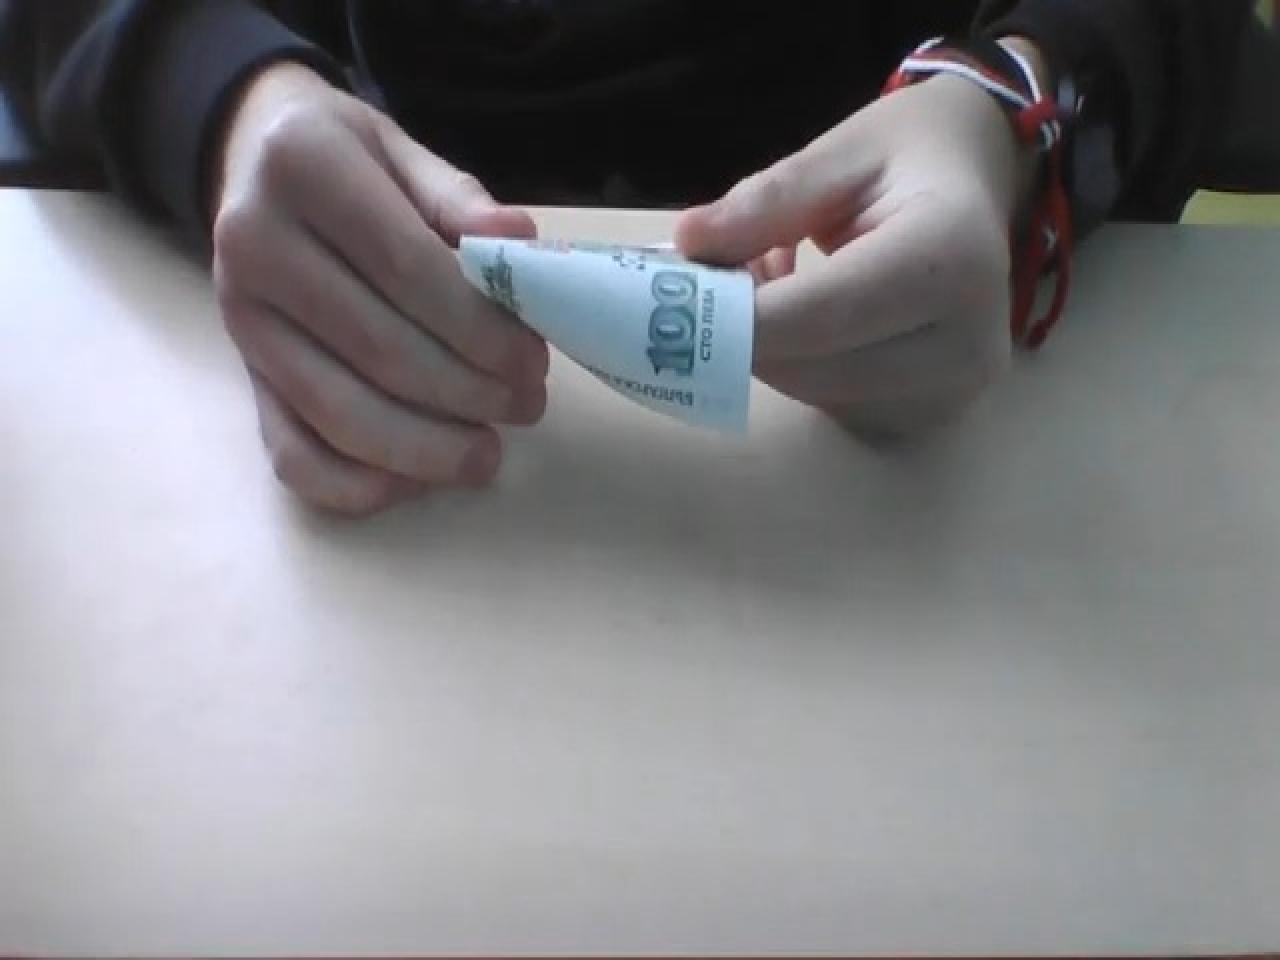100leva: (452, 229, 756, 435)
